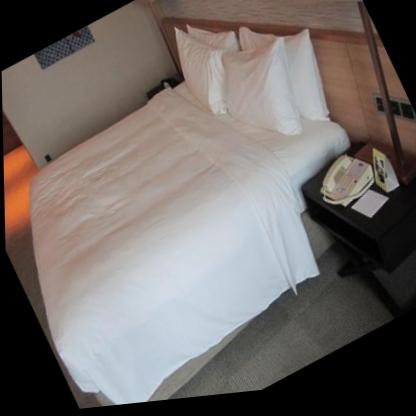Bed: (27, 28, 350, 409)
